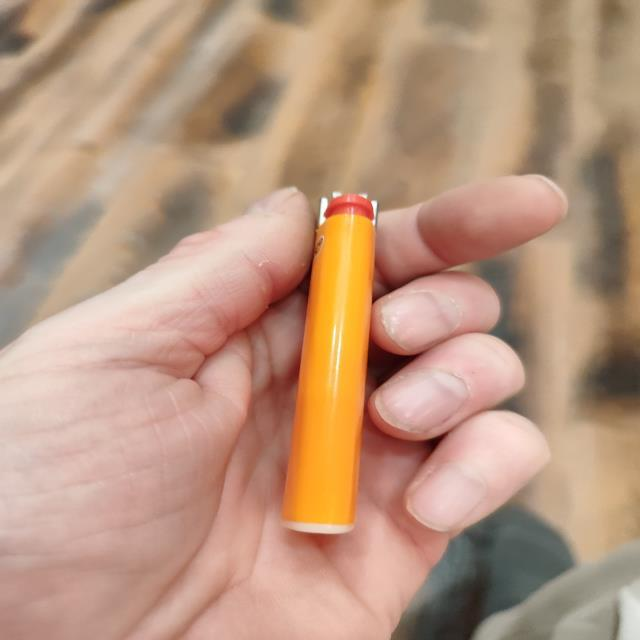lighter: (283, 193, 376, 532)
